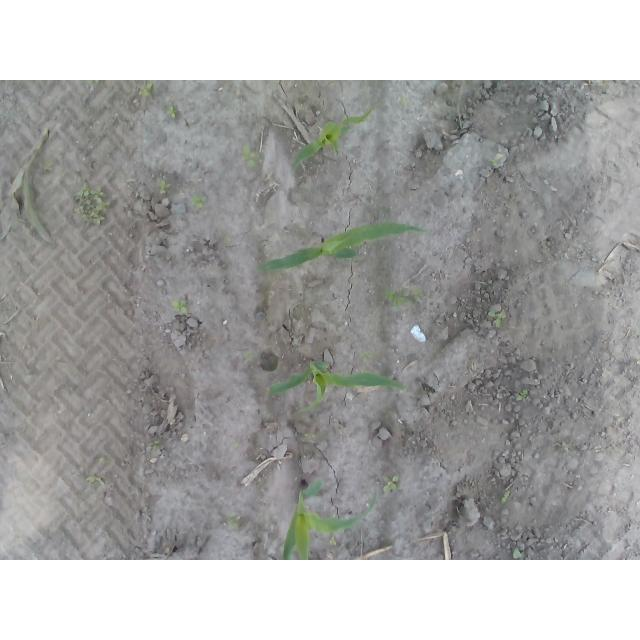Maize: (258, 220, 428, 274), (280, 476, 377, 561), (269, 352, 408, 410), (287, 105, 373, 176)
Weeds: (77, 181, 111, 227), (384, 286, 425, 311), (242, 143, 259, 169), (139, 81, 158, 100), (489, 309, 507, 329), (382, 475, 400, 494), (190, 193, 210, 210), (227, 513, 242, 528), (172, 299, 187, 314), (159, 180, 173, 195), (166, 104, 178, 120), (360, 353, 376, 364), (244, 350, 257, 362), (516, 388, 528, 401), (512, 548, 524, 560), (304, 431, 317, 441), (86, 476, 96, 488), (150, 439, 162, 449), (500, 495, 508, 505), (330, 535, 337, 545), (490, 159, 498, 167)
